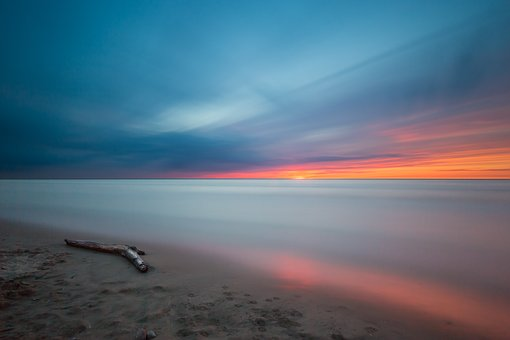beach: (6, 177, 509, 334)
sky: (1, 1, 507, 178)
